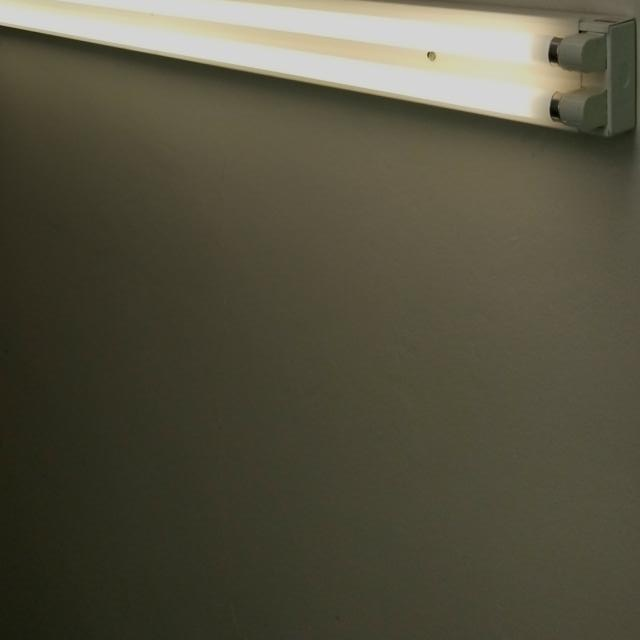fluorescent tube: (0, 0, 640, 160)
